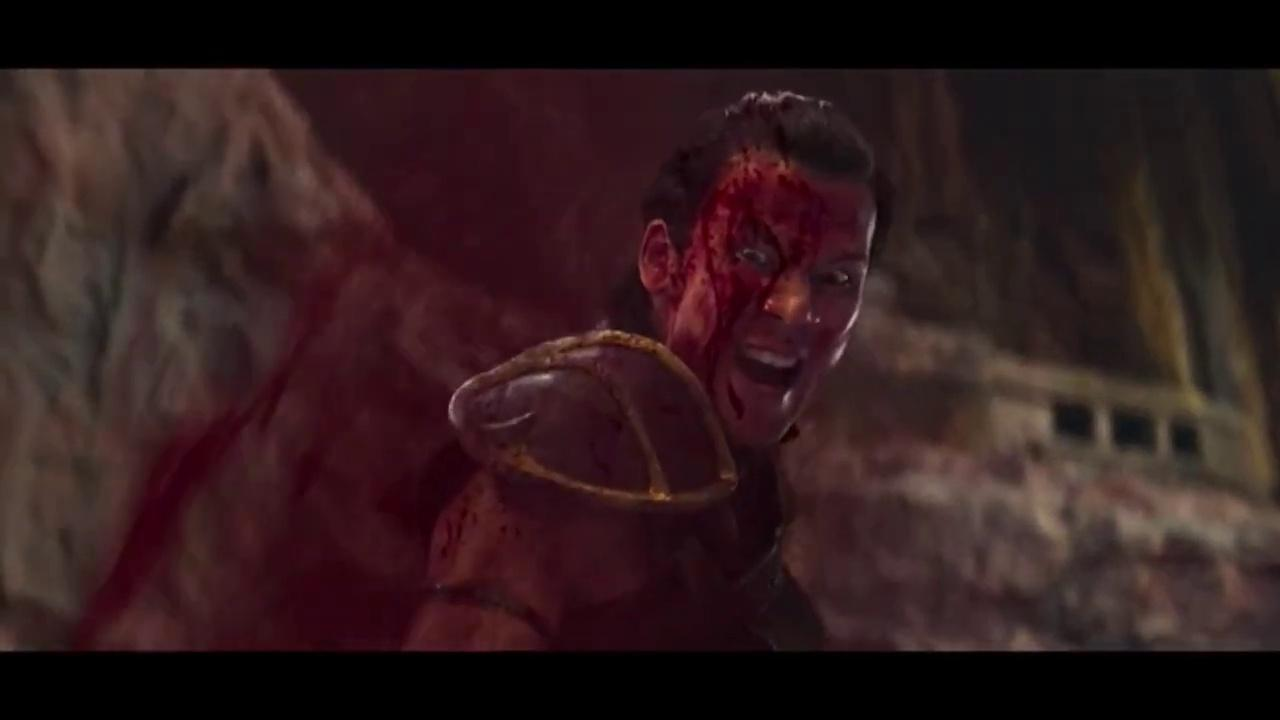Fire: (70, 72, 884, 651)
